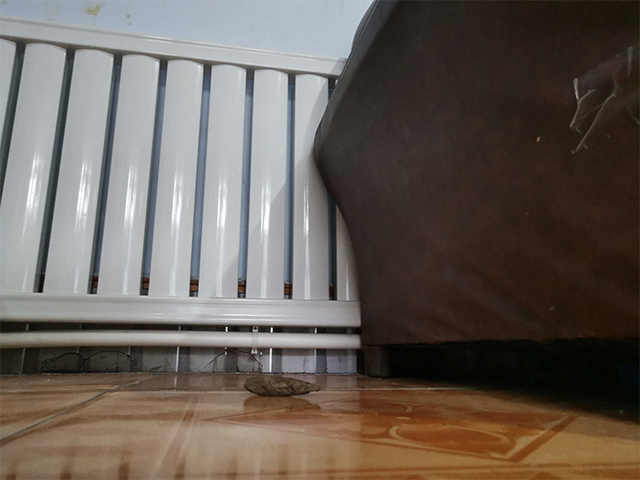feces: (242, 372, 326, 398)
sofa: (310, 1, 640, 380)
